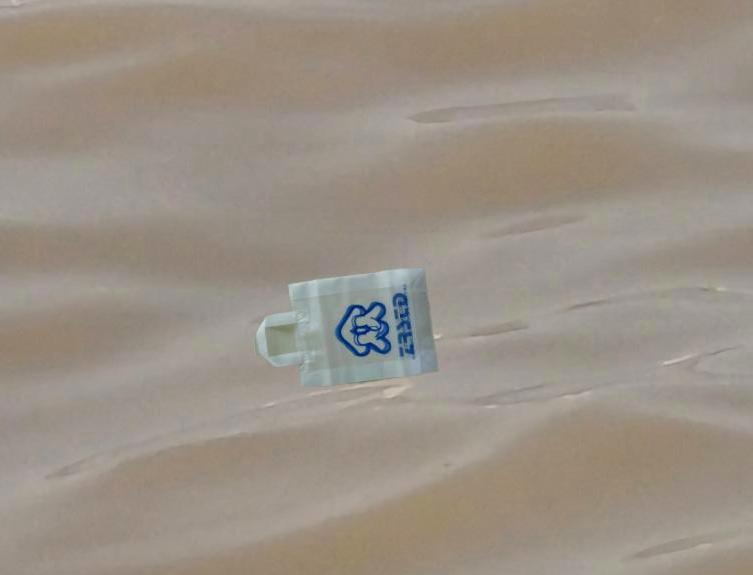Trash: (256, 261, 444, 397)
